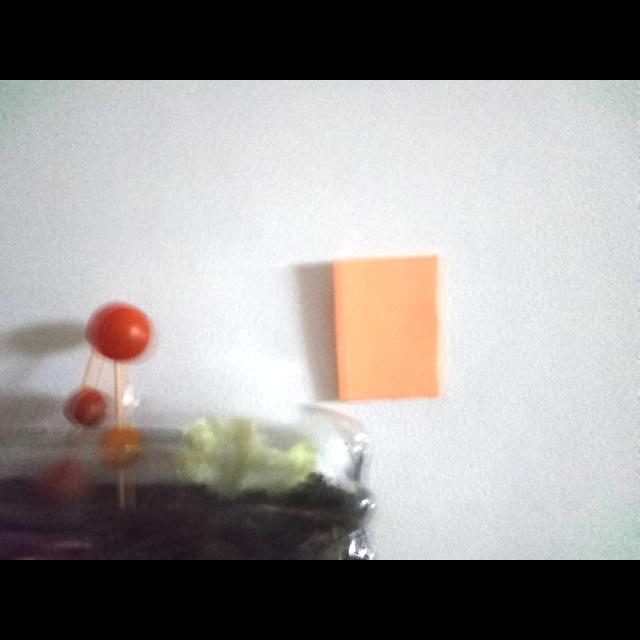card: (333, 256, 440, 401)
fruit_maturation: (102, 426, 142, 469)
fully_grown: (86, 303, 152, 362), (65, 387, 106, 427)
